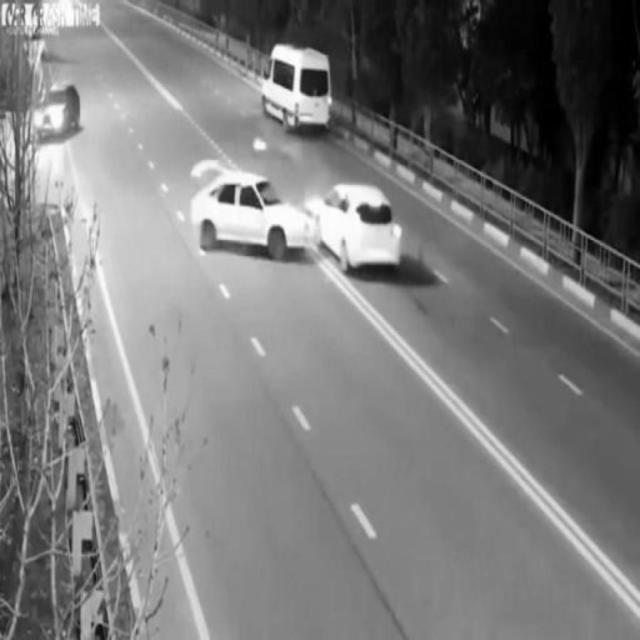accident: (192, 167, 406, 275)
vehicle: (264, 43, 332, 134), (29, 85, 83, 140)
